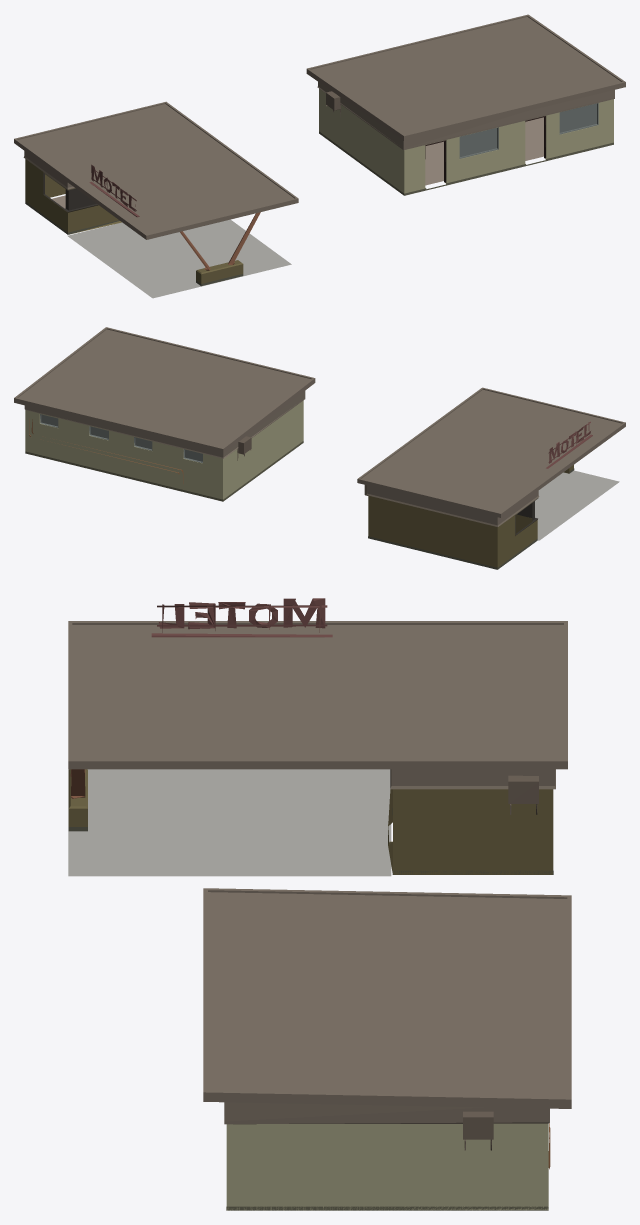
Rendered from modular-motel.access-v18.lod2.glb.
3 views of the same model, one above another, from view 1: azimuth 30°, elevation 25°; view 2: azimuth 150°, elevation 25°; view 3: azimuth 270°, elevation 25° (orthographic). The views are drawn at different scales.
Parts seen in each view (by area): view 1: ReceptionCabinWindow_ReceptionCabinWindows_0; view 2: ReceptionCabinWindow_ReceptionCabinWindows_0; view 3: ReceptionCabinWindow_ReceptionCabinWindows_0.
Boxes of the visible parts, bbox=[...] form: ReceptionCabinWindow_ReceptionCabinWindows_0: bbox=[14, 14, 625, 298]; ReceptionCabinWindow_ReceptionCabinWindows_0: bbox=[14, 327, 625, 569]; ReceptionCabinWindow_ReceptionCabinWindows_0: bbox=[68, 598, 571, 1210].
Bounding box in the file's own units: 24.49 × 3.77 × 10.94.
